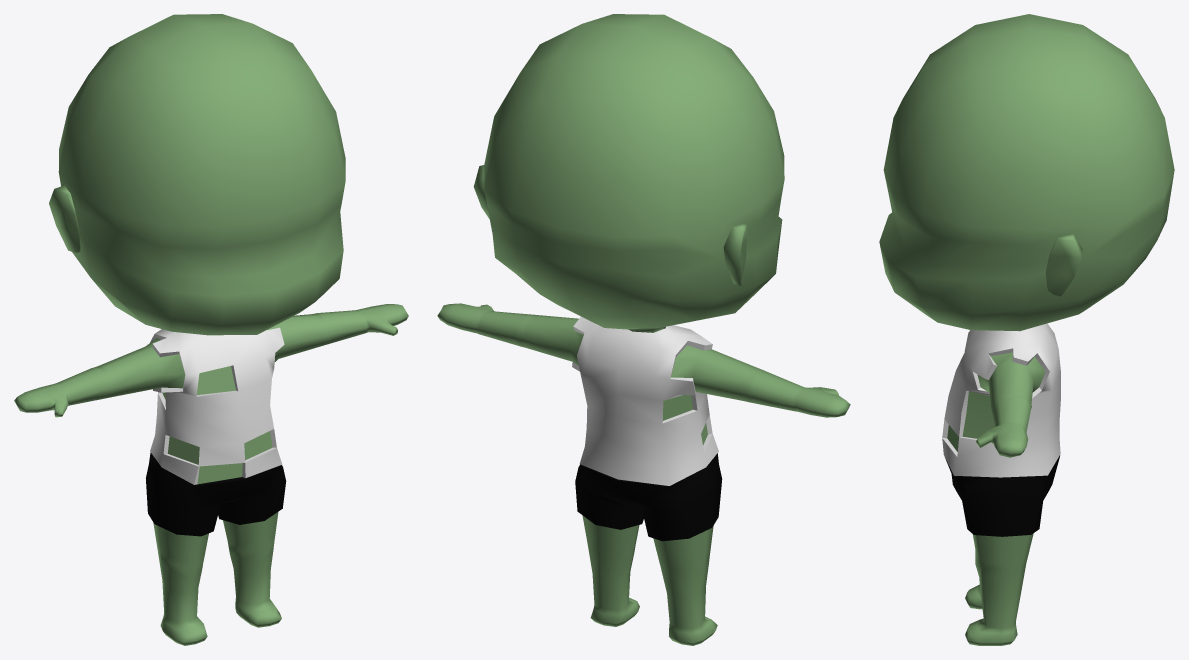
The model's file is Zombie.fbx.
3 renders of one model, left to right at view 1: azimuth 30°, elevation 25°; view 2: azimuth 150°, elevation 25°; view 3: azimuth 270°, elevation 25°, orthographic. The views are drawn at different scales.
Parts seen in each view (by area): view 1: pCube7; view 2: pCube7; view 3: pCube7.
Part boxes in pixels (left/top/right/bottom): pCube7: left=14, top=14, right=408, bottom=645; pCube7: left=437, top=14, right=850, bottom=645; pCube7: left=879, top=14, right=1174, bottom=645.
Size of the model in its own units: 2.22 by 3.22 by 1.45.
